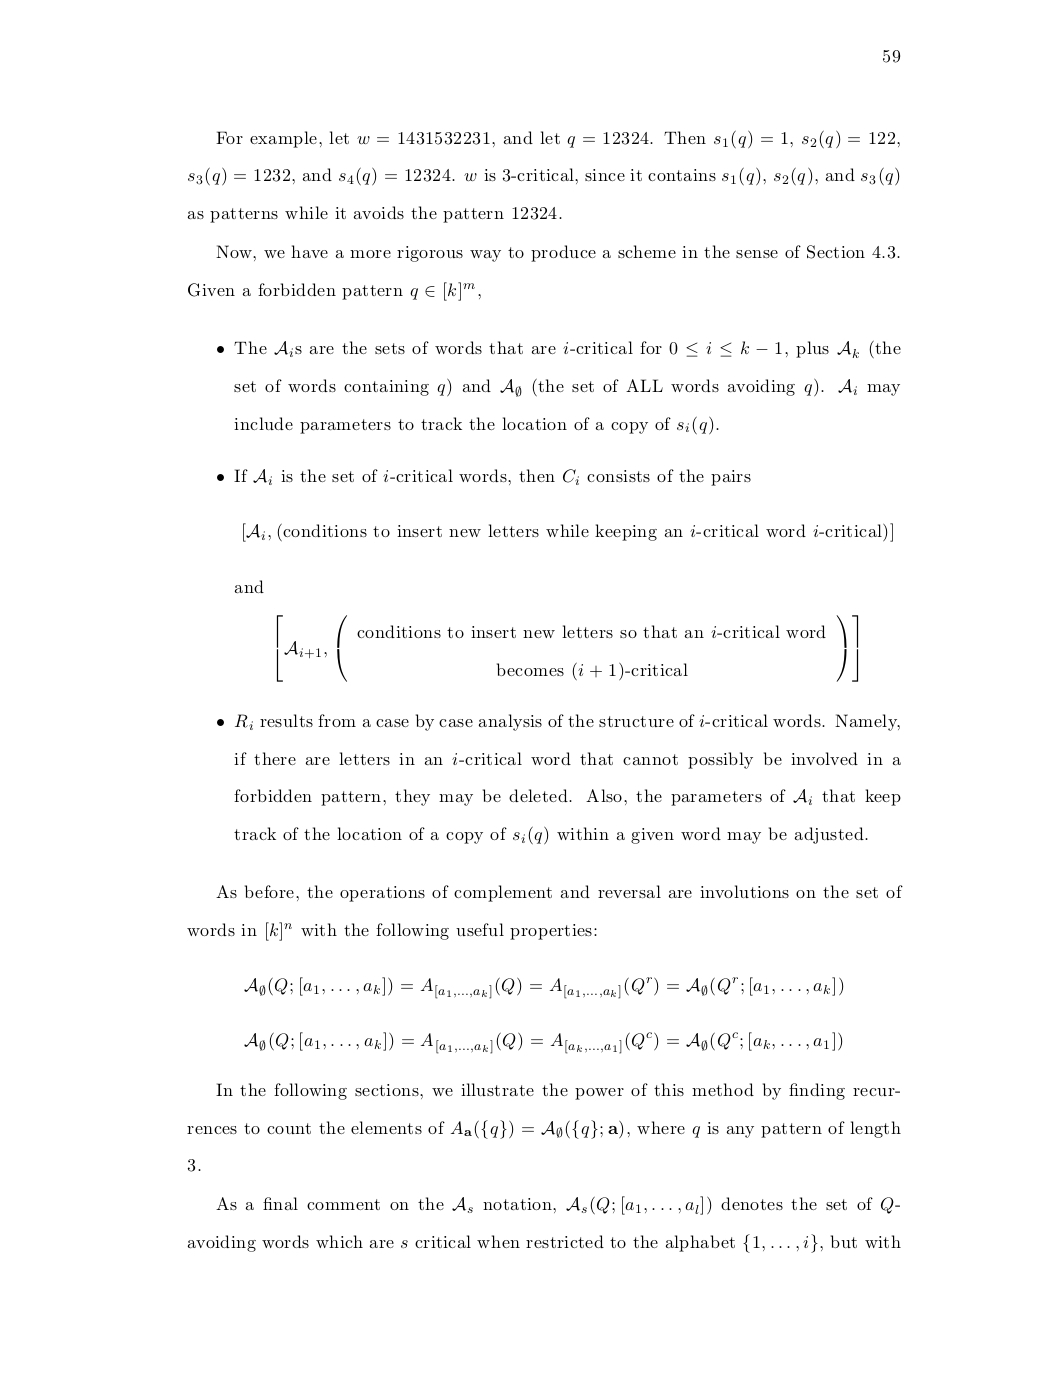formula: (276, 614, 858, 682), (244, 975, 843, 999), (244, 1031, 841, 1054)
